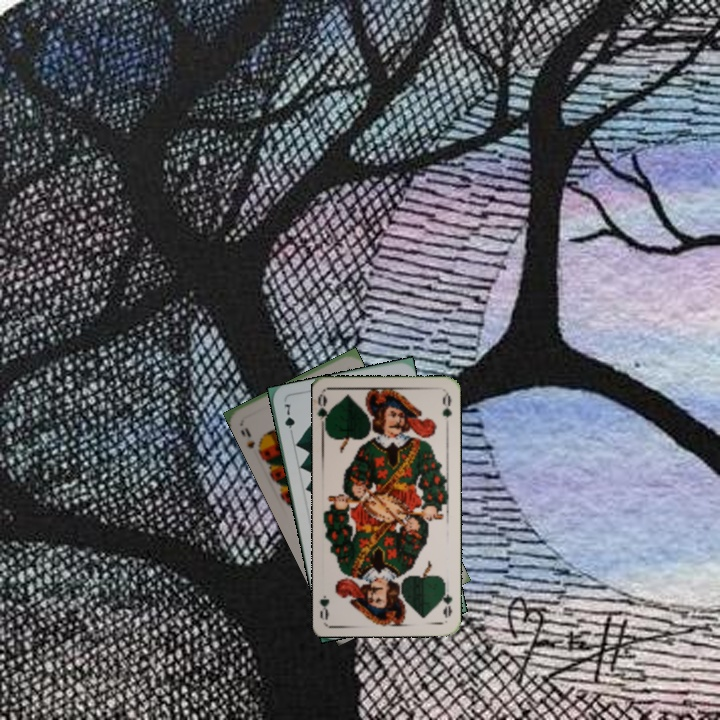G7: (280, 399, 297, 439)
GO: (315, 391, 335, 432), (437, 580, 455, 620)
S9: (241, 423, 264, 456)
